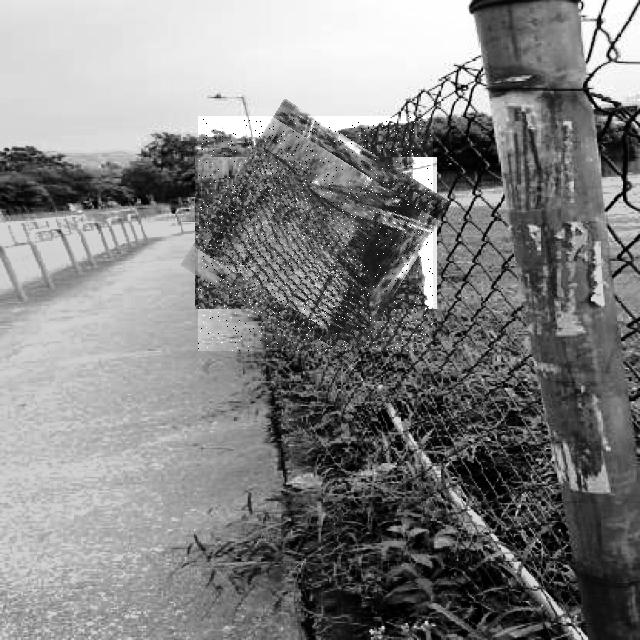anomaly-fence: (198, 116, 433, 351)
